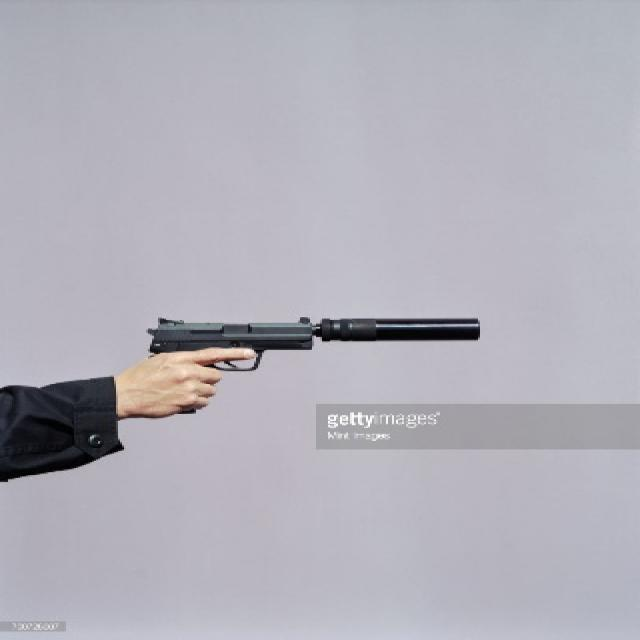weapon: (144, 312, 482, 406)
